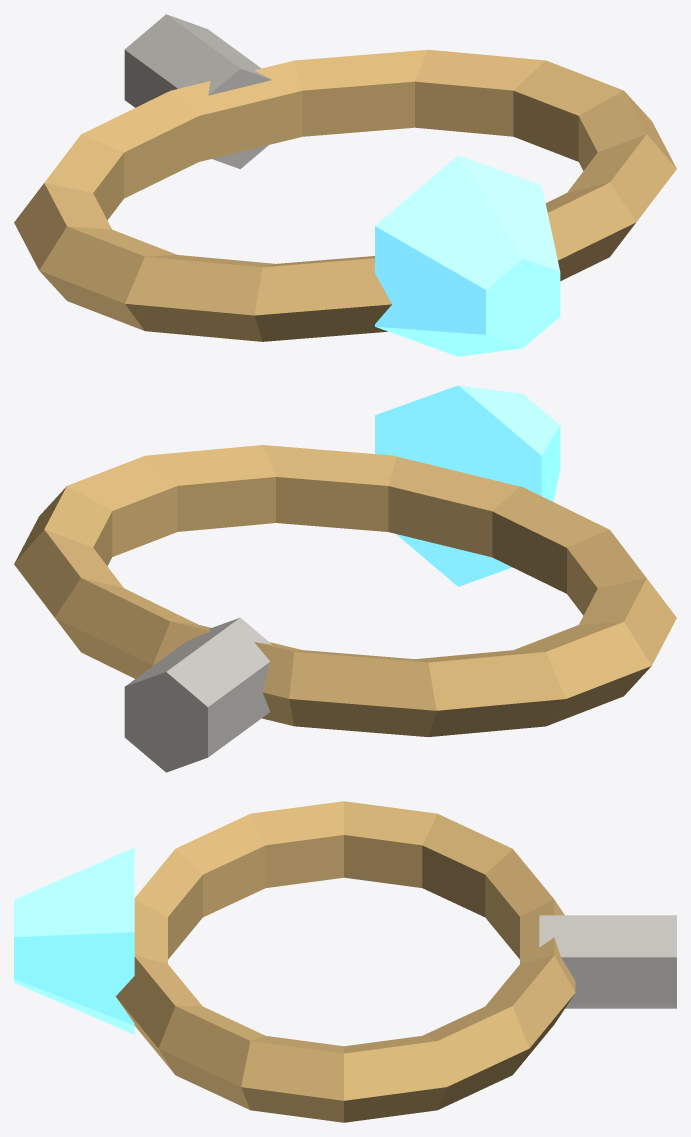
Rendered from OldJewelry.glb.
3 views of the same model, one above another, from view 1: azimuth 30°, elevation 25°; view 2: azimuth 150°, elevation 25°; view 3: azimuth 270°, elevation 25° (orthographic). The views are drawn at different scales.
Visible parts, largest first — view 1: OldJewelry_bent_ring, OldJewelry_gem, OldJewelry_clasp; view 2: OldJewelry_bent_ring, OldJewelry_gem, OldJewelry_clasp; view 3: OldJewelry_bent_ring, OldJewelry_gem, OldJewelry_clasp.
Boxes of the visible parts, <box> form: OldJewelry_bent_ring: <box>14,49,676,341</box>; OldJewelry_gem: <box>375,155,560,356</box>; OldJewelry_clasp: <box>124,14,271,169</box>; OldJewelry_bent_ring: <box>14,445,676,737</box>; OldJewelry_gem: <box>375,385,560,586</box>; OldJewelry_clasp: <box>124,617,271,772</box>; OldJewelry_bent_ring: <box>116,801,575,1122</box>; OldJewelry_gem: <box>14,847,134,1034</box>; OldJewelry_clasp: <box>539,915,676,1008</box>.
Bounding box in the file's own units: 0.5724 × 0.18 × 0.5775.
